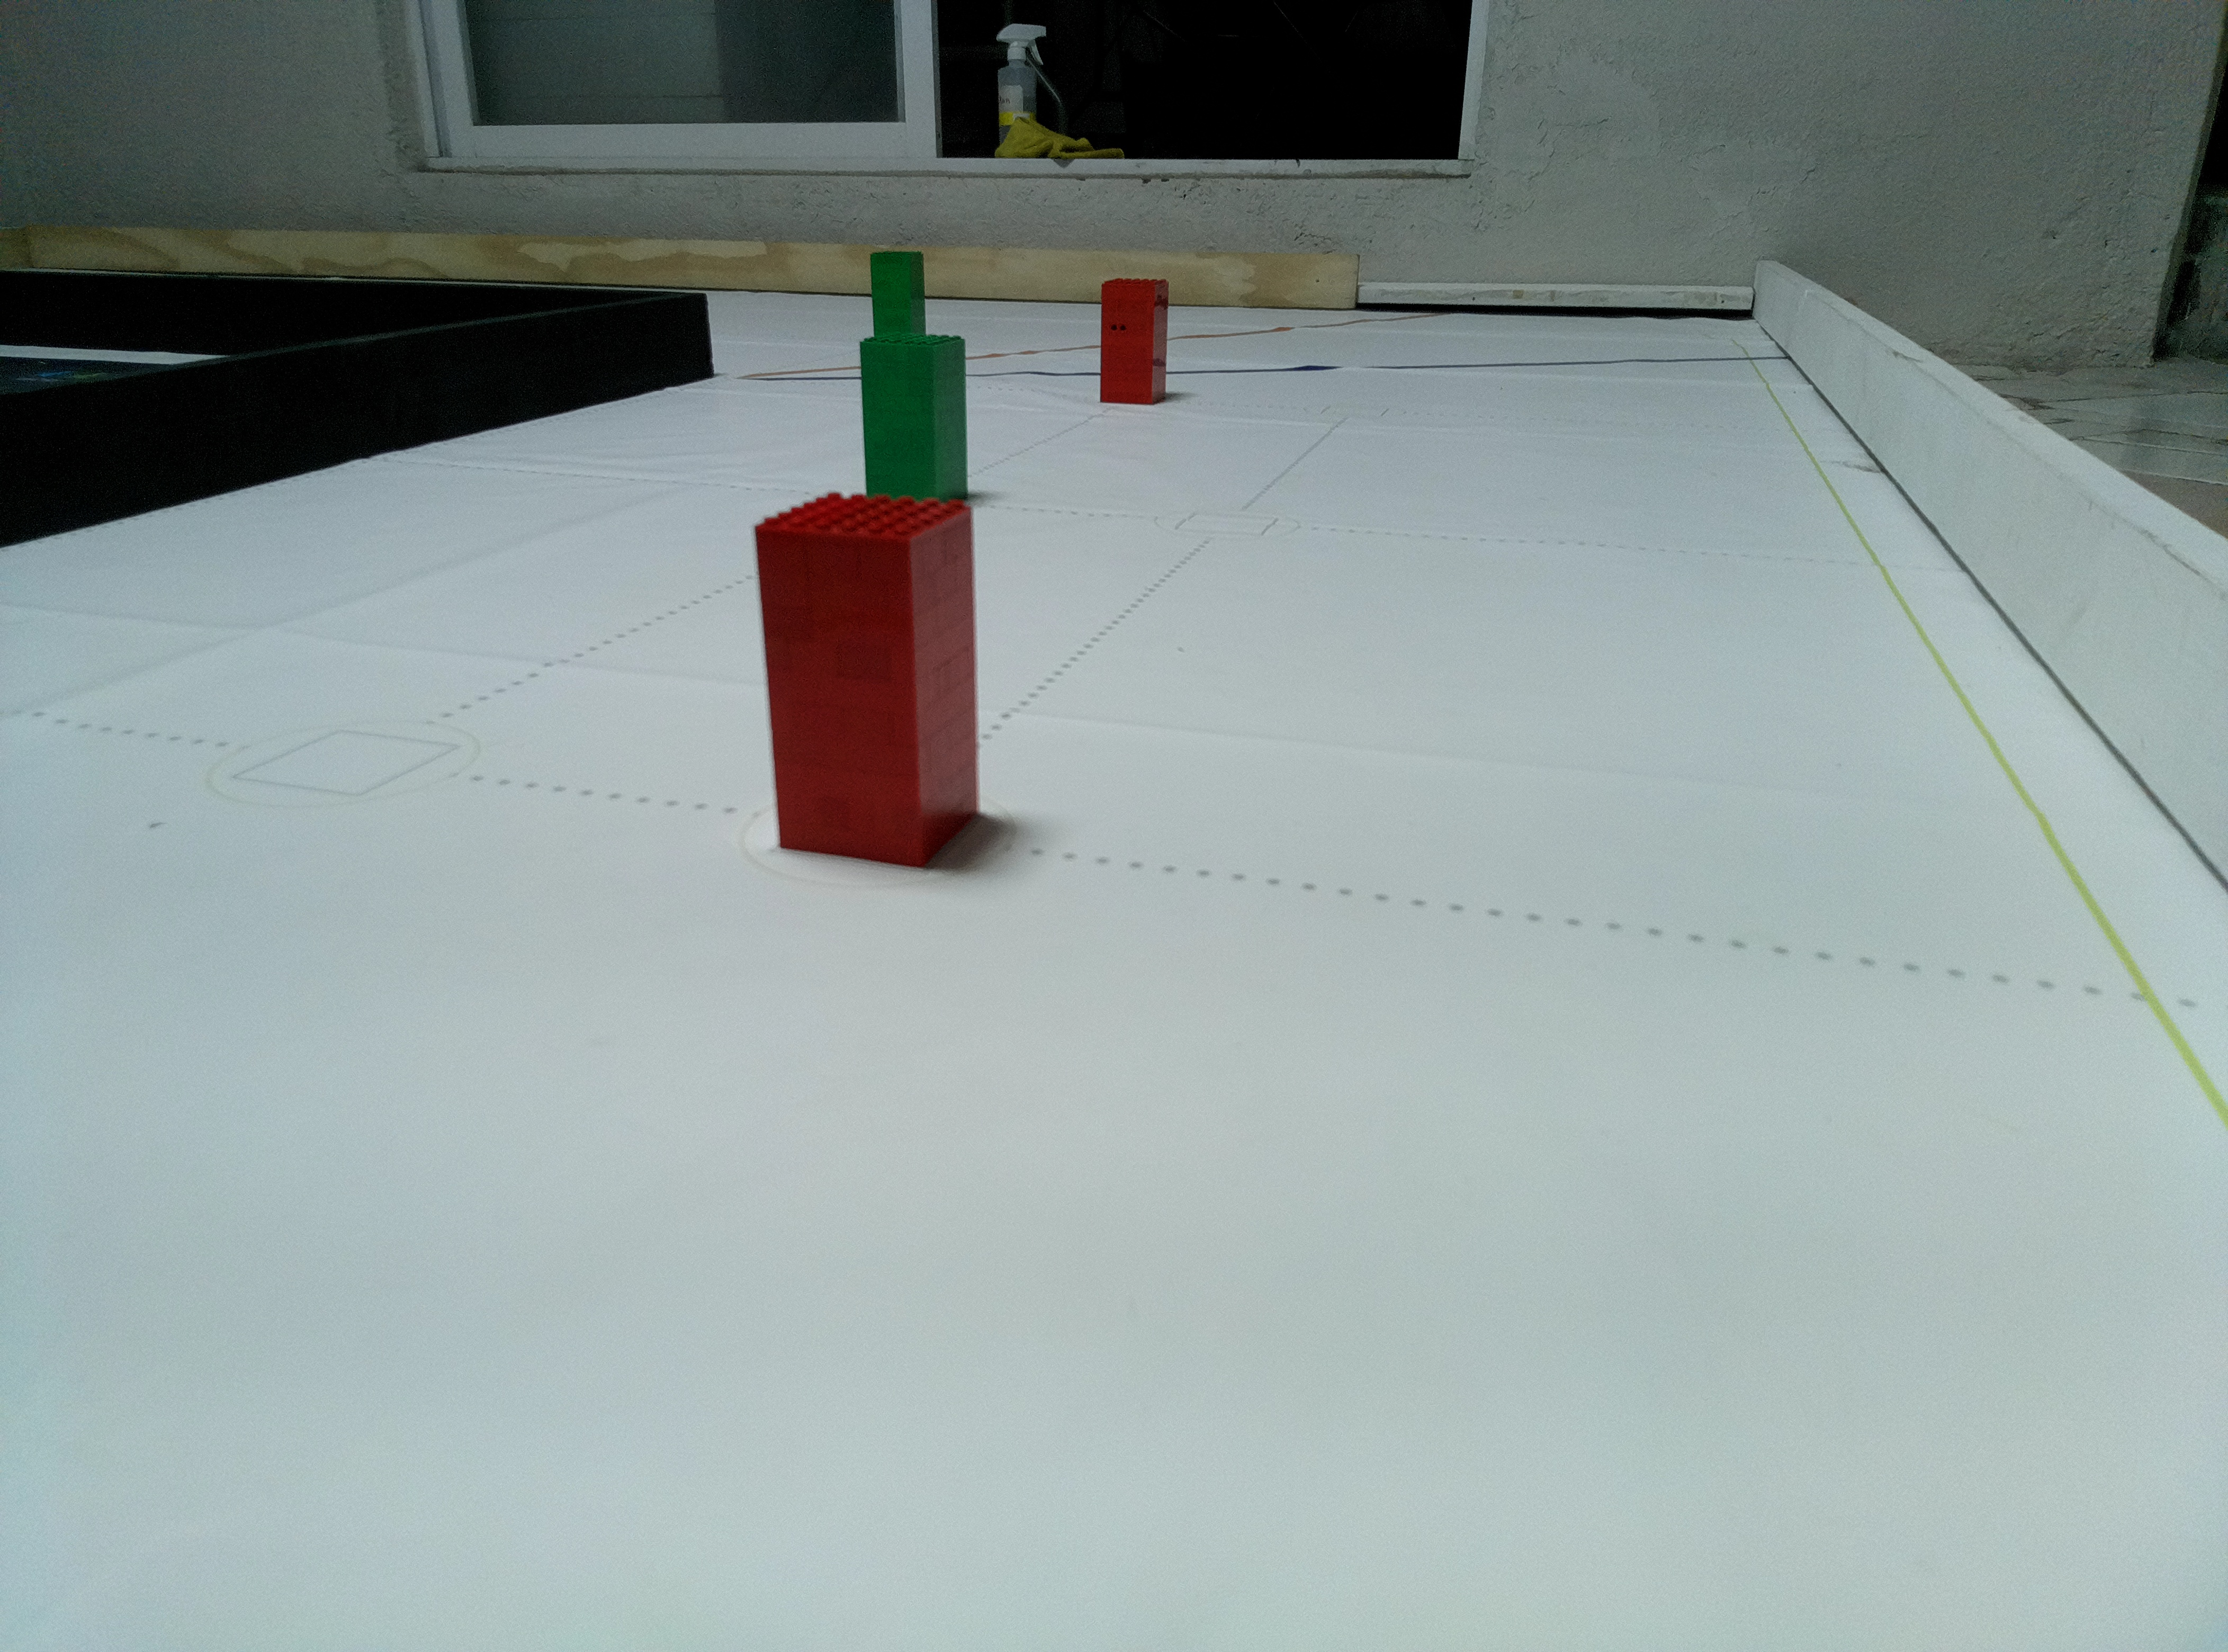greenbox: (855, 328, 970, 505), (869, 253, 928, 342)
redbox: (750, 489, 989, 875), (1102, 271, 1171, 406)
